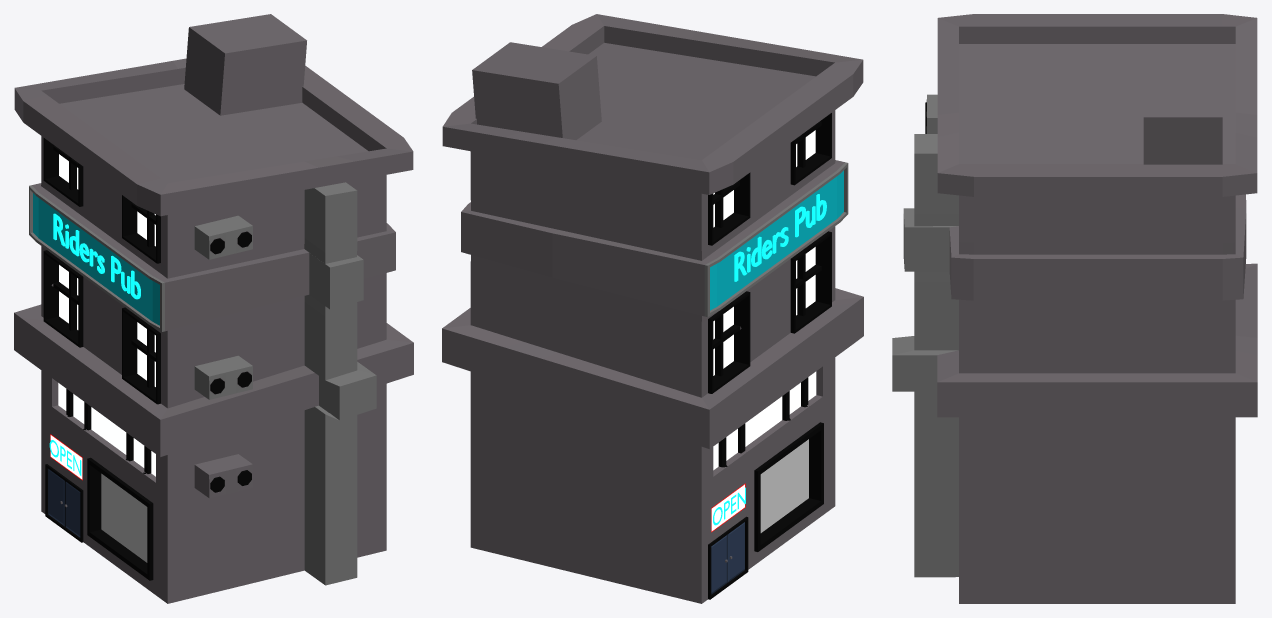
The model's file is Building_1.fbx.
The picture shows the model from 3 angles, left to right: view 1: azimuth 30°, elevation 25°; view 2: azimuth 150°, elevation 25°; view 3: azimuth 270°, elevation 25°; orthographic projection. The views are drawn at different scales.
Parts seen in each view (by area): view 1: Cube.004; view 2: Cube.004; view 3: Cube.004.
Boxes of the visible parts, <box> form: Cube.004: <box>14,14,413,603</box>; Cube.004: <box>442,14,863,603</box>; Cube.004: <box>892,14,1257,603</box>.
Size of the model in its own units: 1219 by 1982 by 1320.
